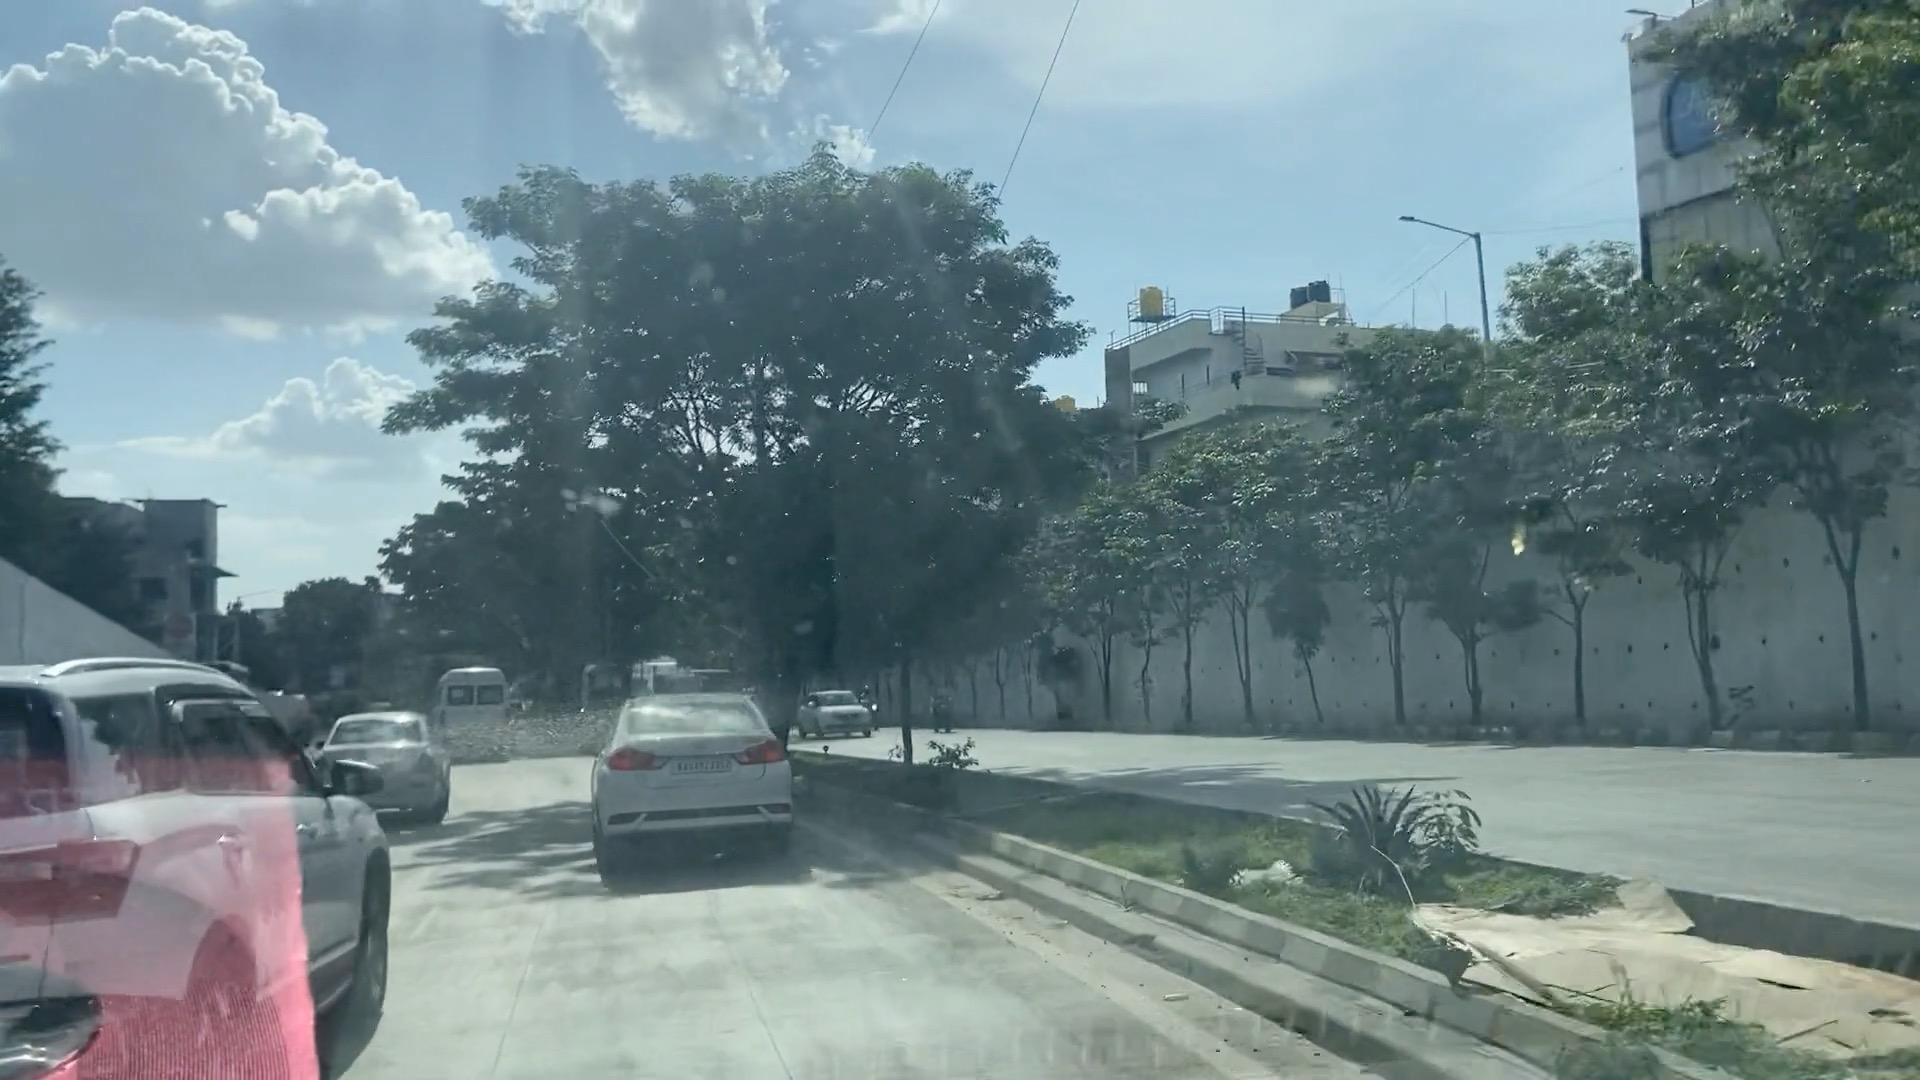LMV: (0, 662, 285, 1080), (603, 695, 803, 851), (335, 709, 435, 804)
